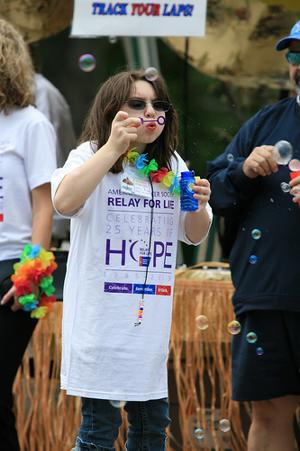person: (47, 63, 213, 451)
